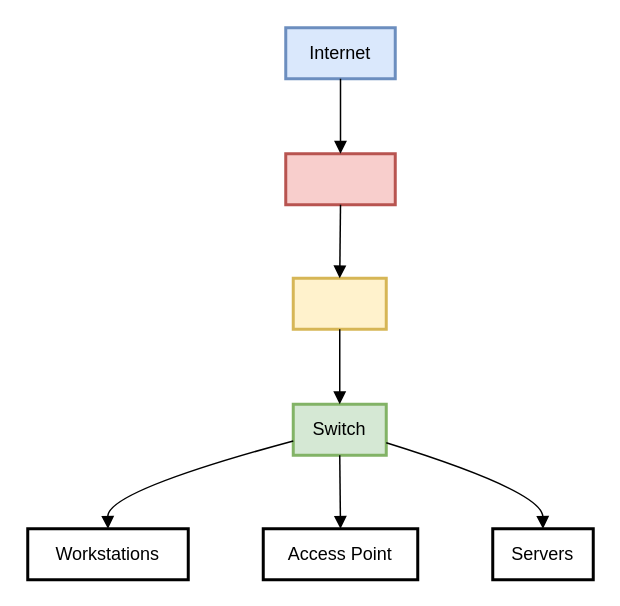
The diagram is 620 pixels wide and 606 high, and some of its shapes have lost their labels. Here are the shapes that lost their labels. From the top down, the centre of each, then its label:
At (x=340, y=179): "Firewall".
At (x=339, y=303): "Router".
